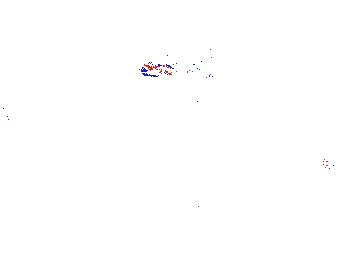red belly glassfish: (138, 54, 209, 79)
redtail glassfish: (317, 151, 346, 175)
